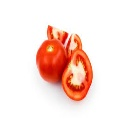tomato: (62, 50, 93, 101), (35, 38, 67, 82)
